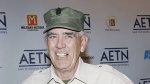male: (38, 8, 94, 77)
